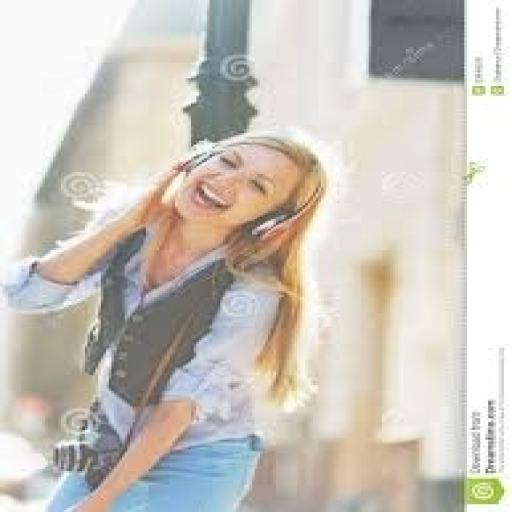listening_to_music: (0, 125, 332, 510)
